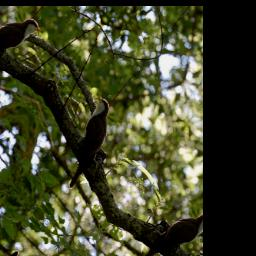Cuckoo: (42, 90, 128, 193)
